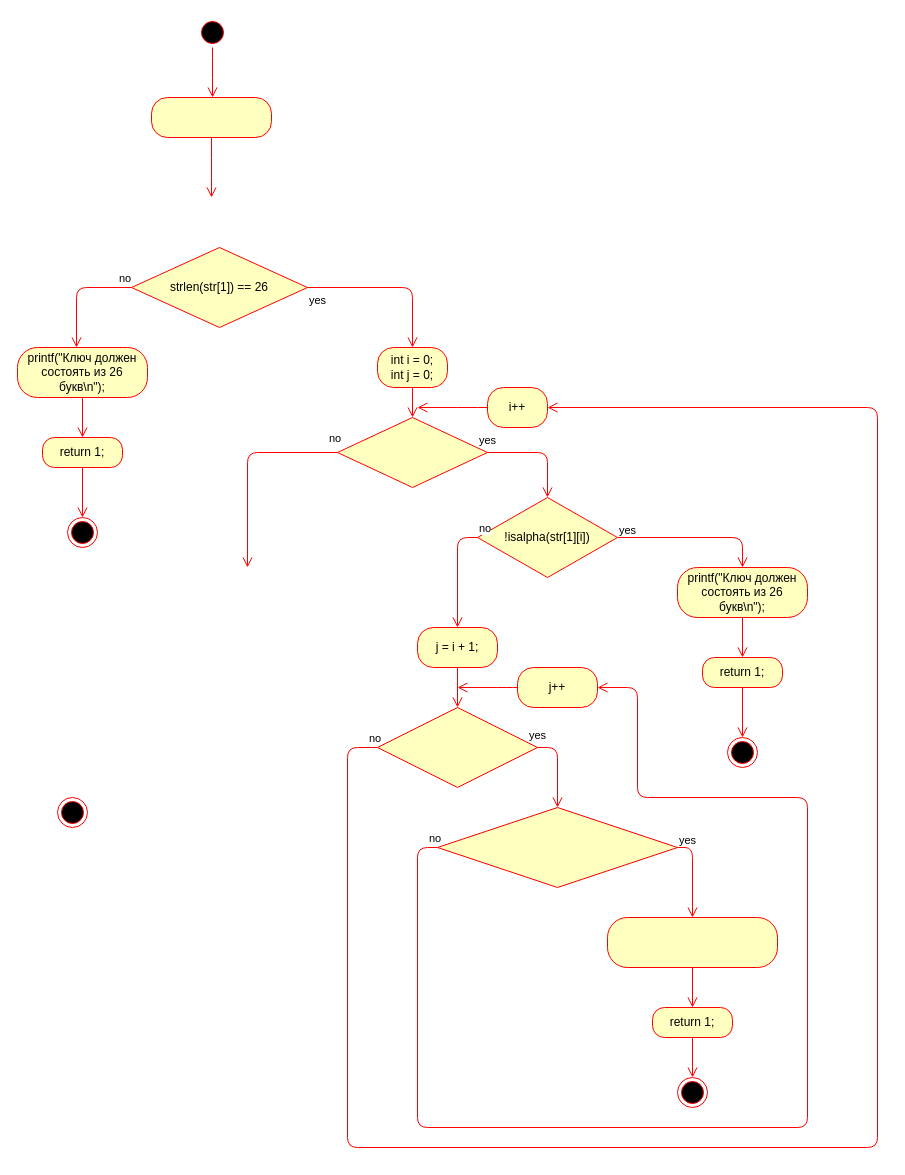
This 905x1175 diagram has some shape labels left out. Each missing label, with the box of its shape:
i < strlen(str[1]): (336, 416, 488, 488)
j < strlen(str[1]): (376, 706, 538, 788)
printf("Ключ не должен содержать повторяющиеся символы\n");: (606, 916, 778, 968)
string str: (150, 96, 272, 138)
toupper(str[1][i]) == toupper(str[1][j]): (436, 806, 678, 888)
